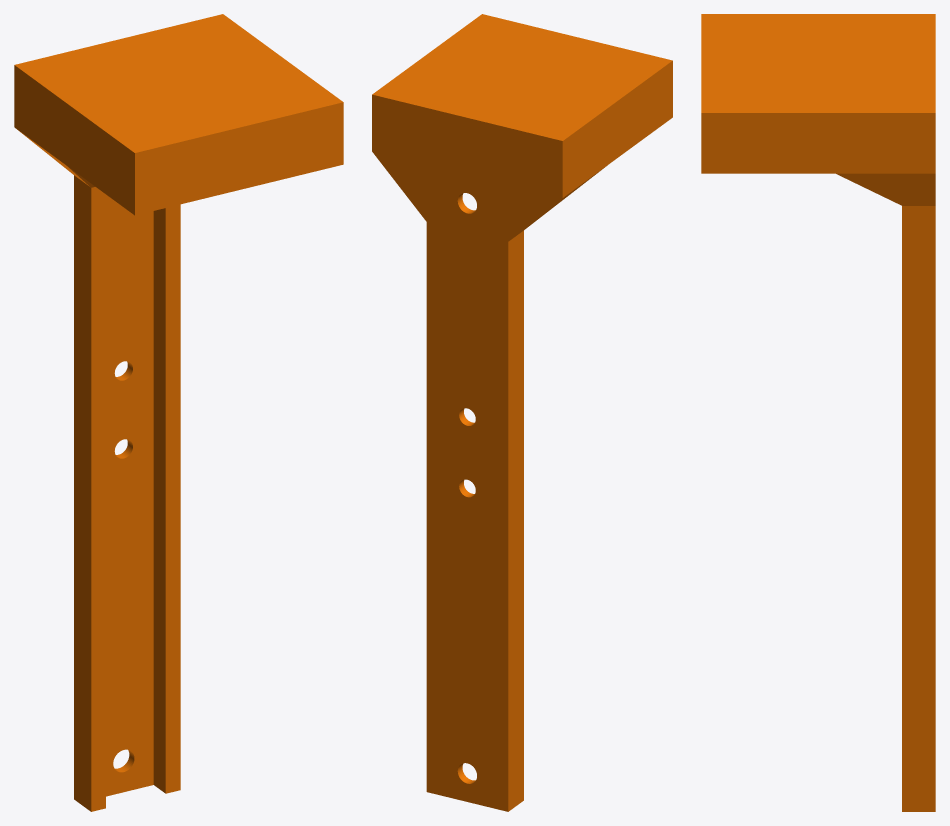
Rendered from Mini_VESA_Shelf.glb.
3 renders of one model, left to right at view 1: azimuth 30°, elevation 25°; view 2: azimuth 150°, elevation 25°; view 3: azimuth 270°, elevation 25°, orthographic. The views are drawn at different scales.
Parts seen in each view (by area): view 1: Mini_VESA_Shelf_HighRes; view 2: Mini_VESA_Shelf_HighRes; view 3: Mini_VESA_Shelf_HighRes.
Boxes of the visible parts, x1,y1,x2,y2 form: Mini_VESA_Shelf_HighRes: (14, 14, 343, 811); Mini_VESA_Shelf_HighRes: (372, 14, 672, 811); Mini_VESA_Shelf_HighRes: (701, 14, 935, 811).
Bounding box in the file's own units: 70 × 240 × 70.
